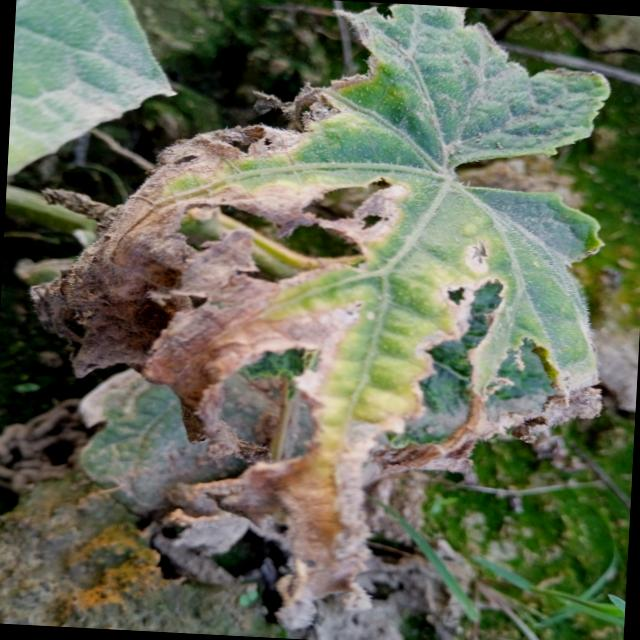cucumber_anthracnose: (12, 52, 608, 625)
